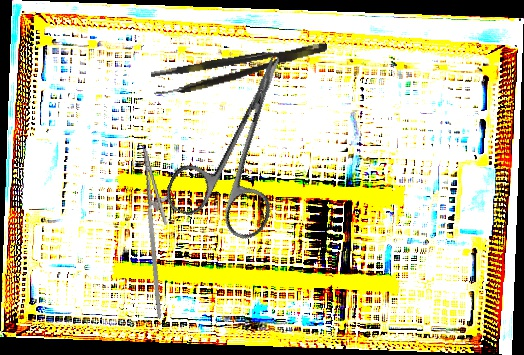Iris Scissors: (160, 38, 328, 245)
Needle Holder: (122, 145, 195, 319)
Tissue Forceps: (150, 40, 331, 98)
